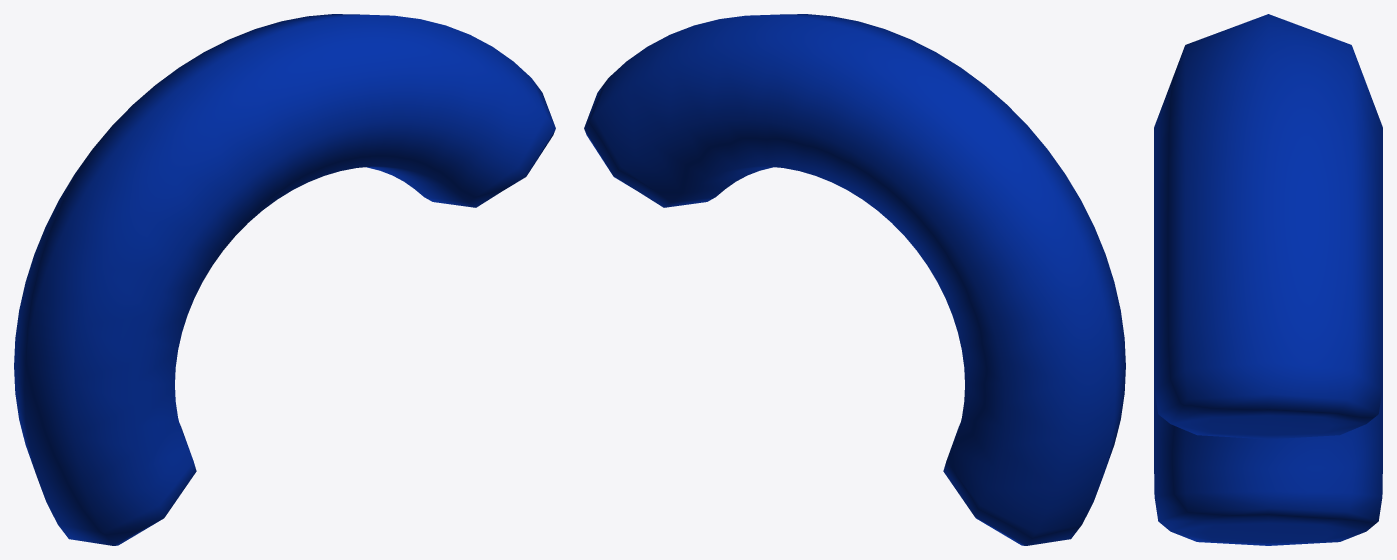
File: PonteV1.glb
3 renders of one model, left to right at view 1: azimuth 30°, elevation 25°; view 2: azimuth 150°, elevation 25°; view 3: azimuth 270°, elevation 25°, orthographic. The views are drawn at different scales.
Visible parts, largest first — view 1: Ponte; view 2: Ponte; view 3: Ponte.
Boxes of the visible parts, x1,y1,x2,y2 form: Ponte: [14, 14, 555, 545]; Ponte: [584, 14, 1125, 545]; Ponte: [1154, 14, 1382, 545].
Size of the model in its own units: 0.2731 by 0.2319 by 0.0742.
